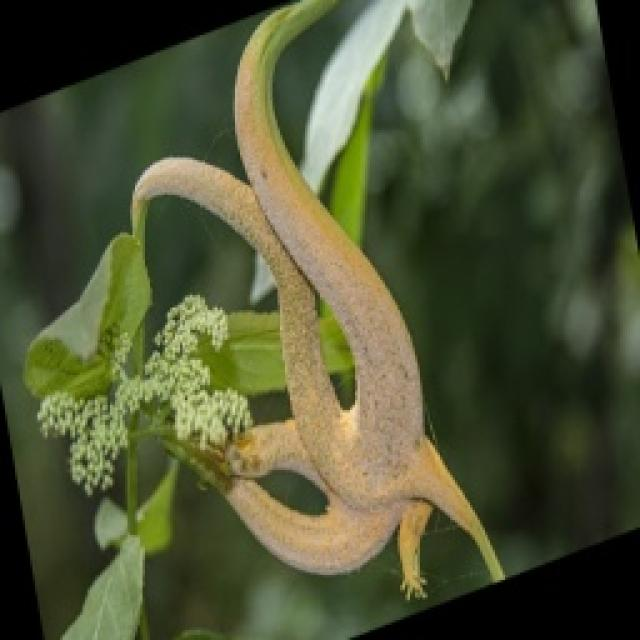Elderberry_rust: (118, 12, 482, 640)
